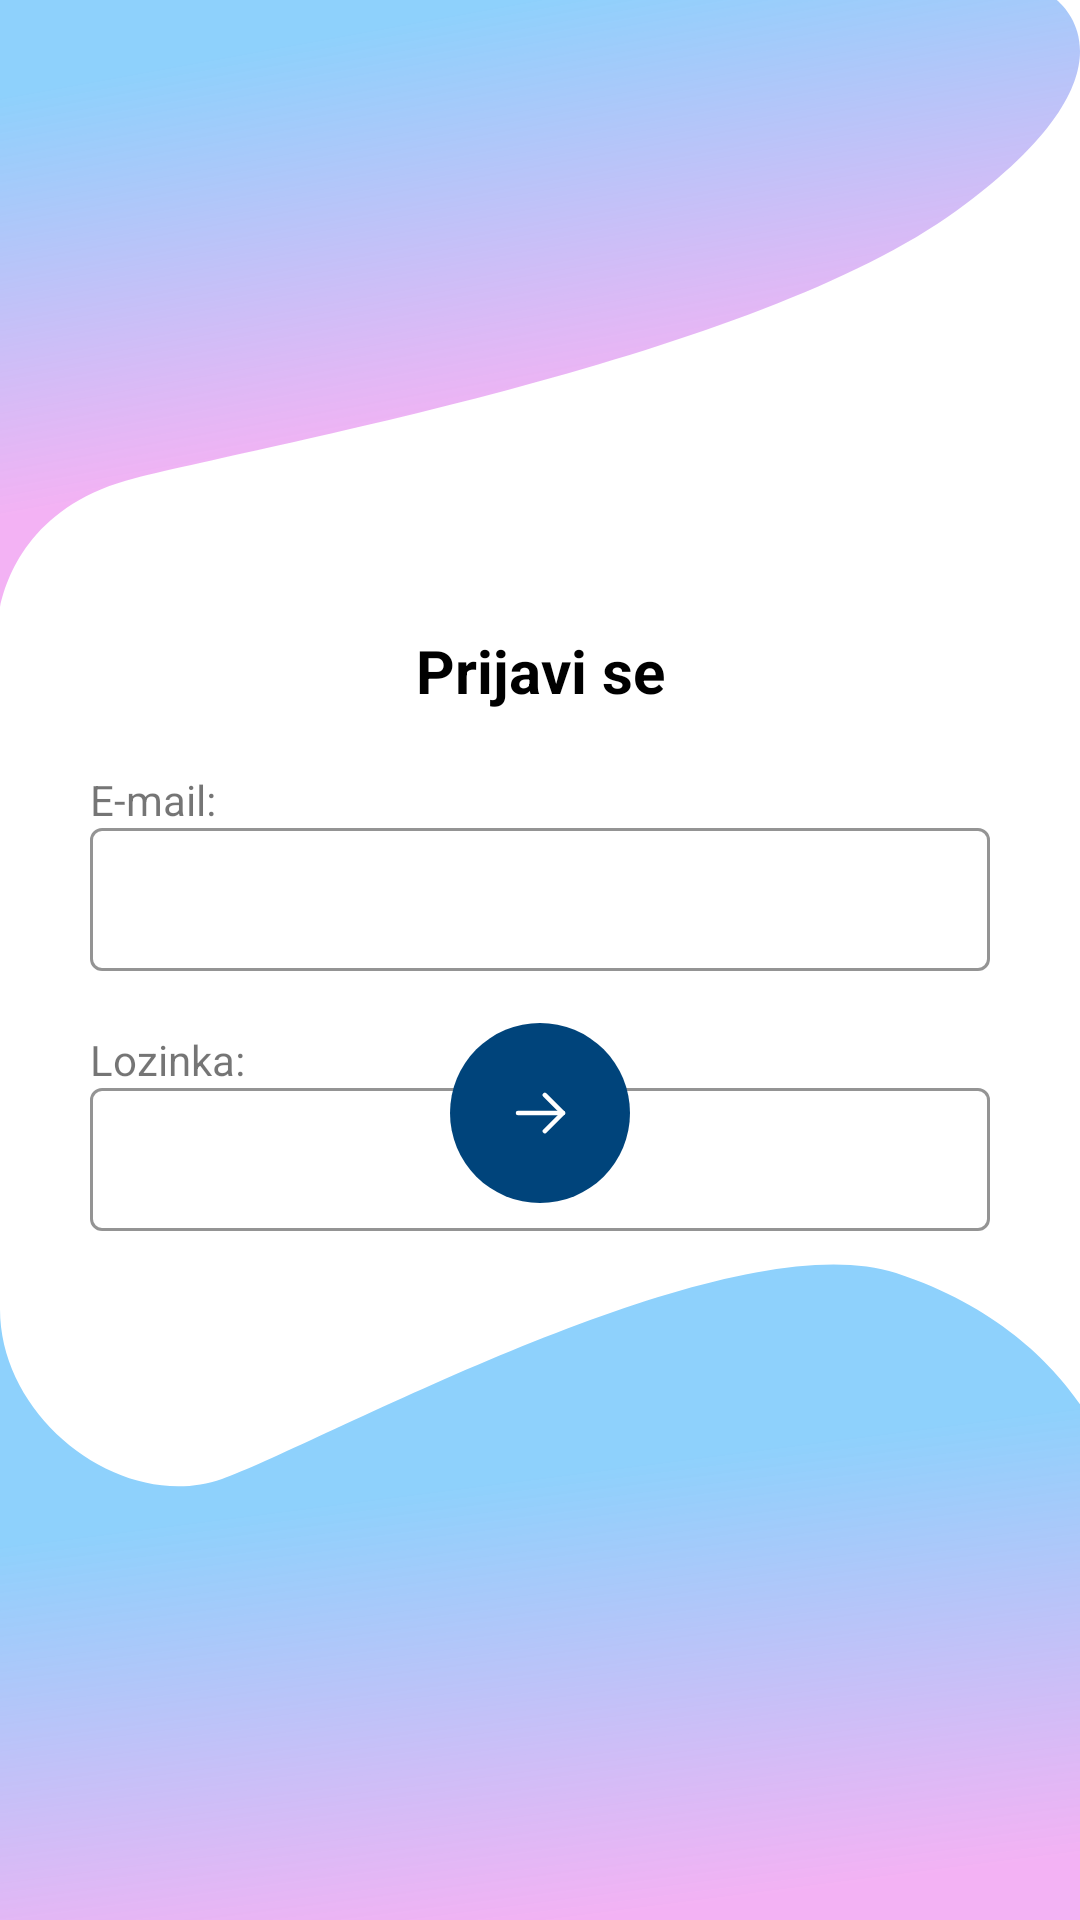

Where to tap for icons on this 1080px x 1920px app screen, as [x,y]:
arrow right: [540,1113]
